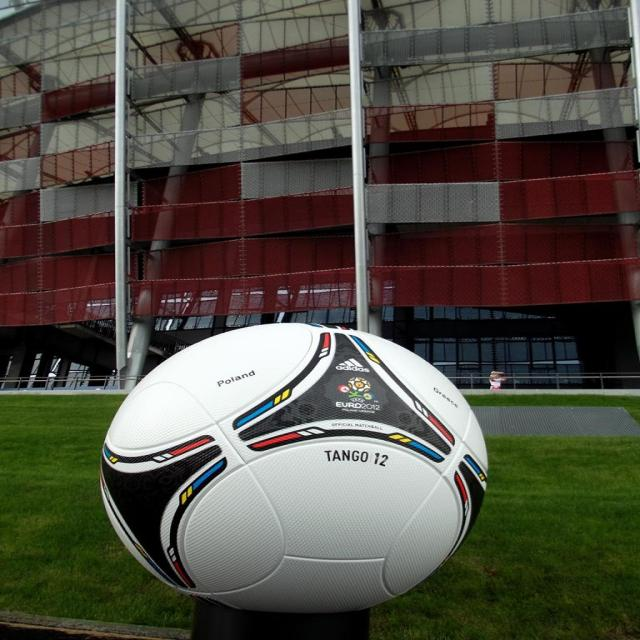Ball: (102, 321, 486, 611)
